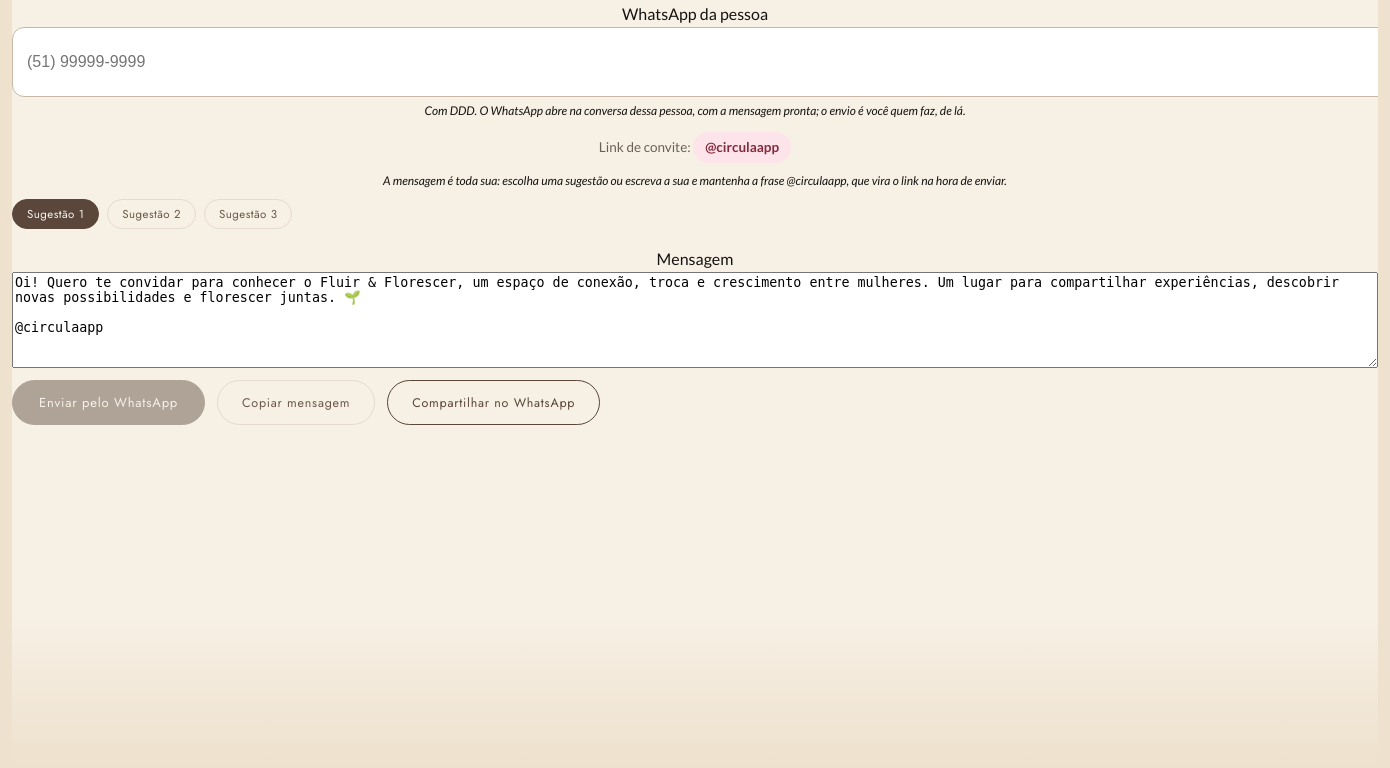
Test case: CommunityInviteWhatsApp › número inválido mostra aviso e não deixa enviar
The image size is (1390, 768).
Type "12345" into the field labelled "WhatsApp da pessoa" at (695, 62), box [12,27,1378,97]
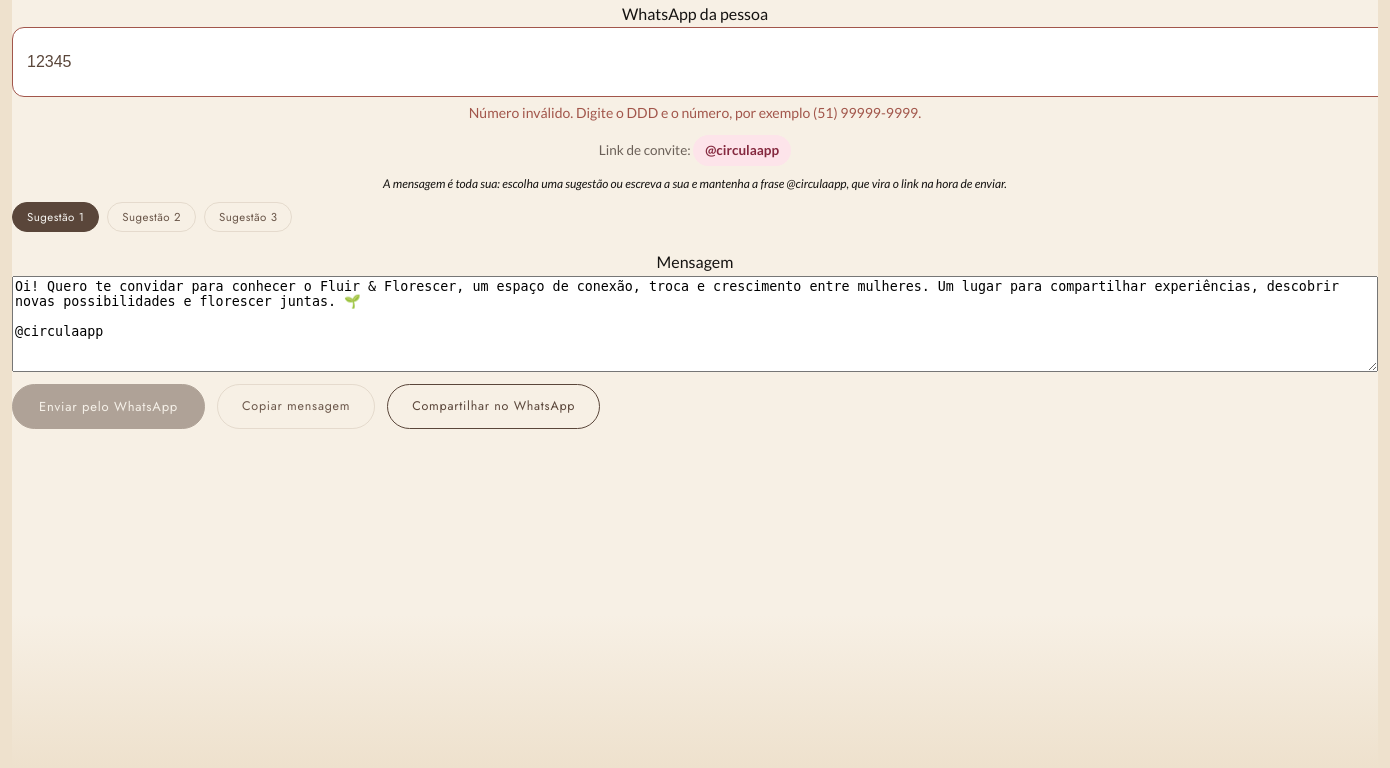
Expected: the button "Enviar pelo WhatsApp" is disabled, [12,384,205,428]
Now the message shows "Número inválido", box [469,104,921,121]
